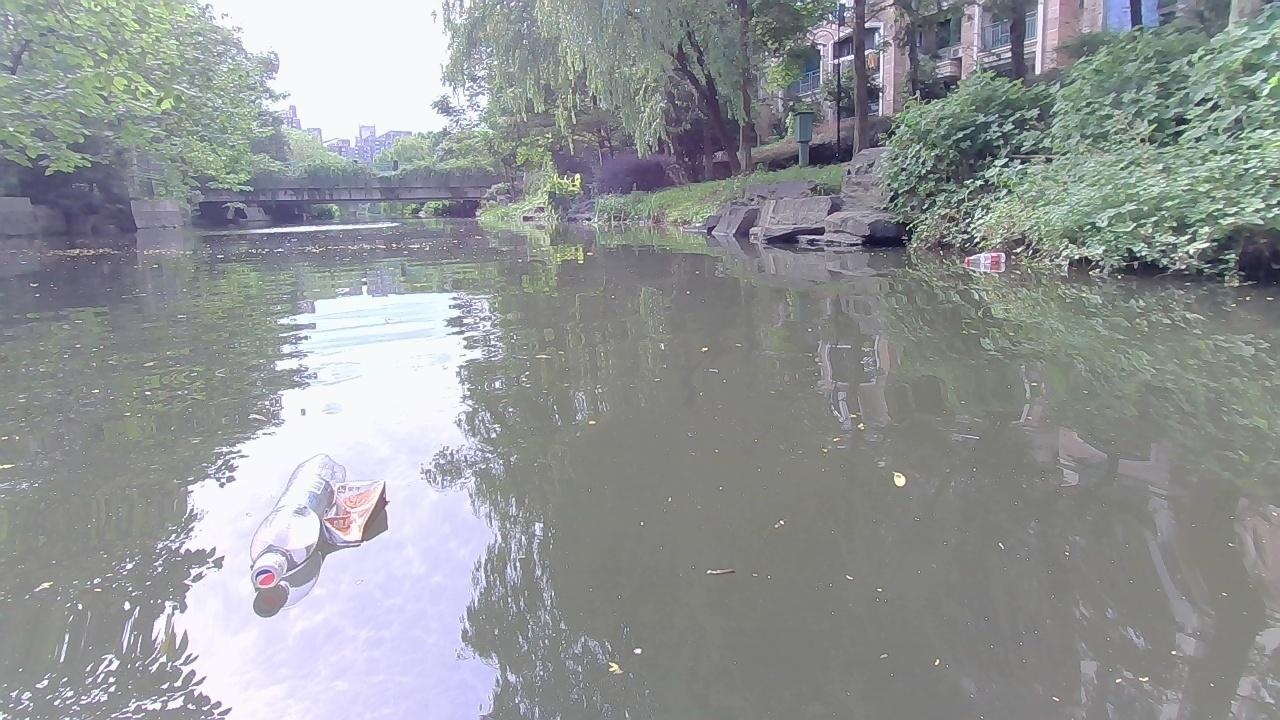bottle: (248, 446, 353, 591), (959, 248, 1007, 272)
